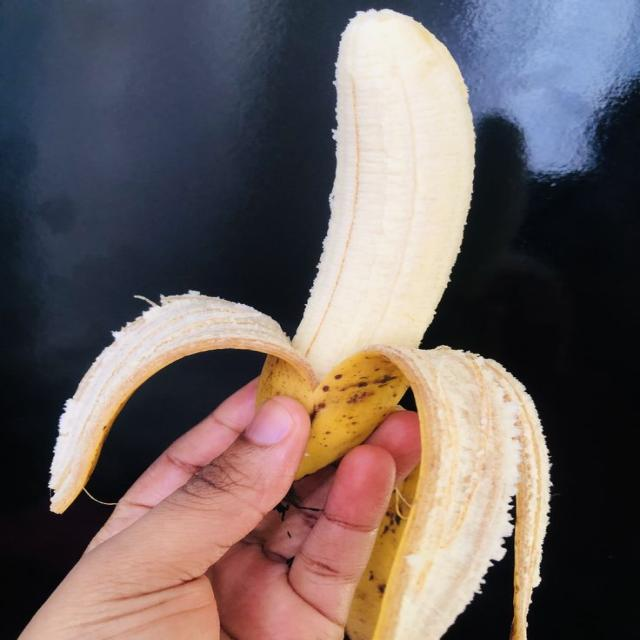banana: (51, 10, 549, 639)
